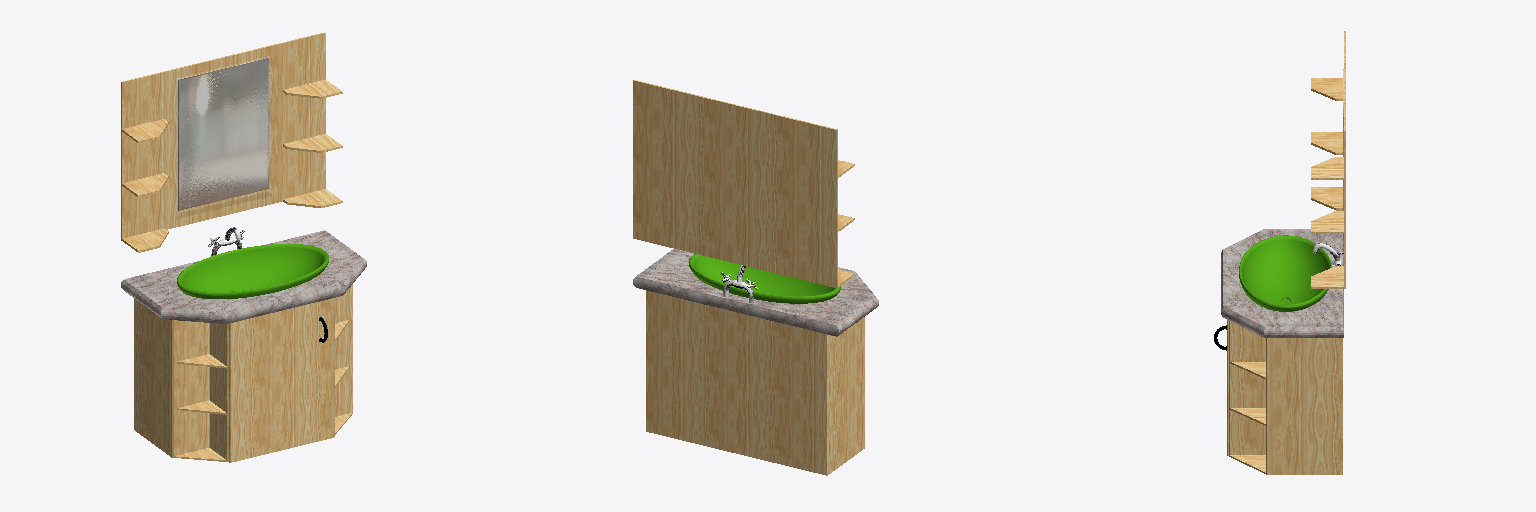
3 views of the same model, side by side, from view 1: azimuth 30°, elevation 25°; view 2: azimuth 150°, elevation 25°; view 3: azimuth 270°, elevation 25° (orthographic).
Parts seen in each view (by area): view 1: Box01, Box04, Rectangular_Mirror_white__Rectangular_Mirror_white_, Object01, Sphere01; view 2: Box04, Box01, Object01, Sphere01; view 3: Box01, Object01, Sphere01, Box04.
Part boxes in pixels (left/top/right/bottom): Box01: left=134, top=284, right=352, bottom=462; Box04: left=121, top=32, right=342, bottom=252; Rectangular_Mirror_white__Rectangular_Mirror_white_: left=178, top=57, right=268, bottom=210; Object01: left=121, top=230, right=366, bottom=323; Sphere01: left=177, top=244, right=328, bottom=298; Box04: left=633, top=80, right=854, bottom=287; Box01: left=646, top=290, right=864, bottom=475; Object01: left=633, top=249, right=878, bottom=336; Sphere01: left=689, top=254, right=840, bottom=303; Box01: left=1227, top=320, right=1342, bottom=474; Object01: left=1221, top=229, right=1343, bottom=337; Sphere01: left=1239, top=235, right=1331, bottom=311; Box04: left=1311, top=31, right=1345, bottom=288.
Bounding box in the file's own units: 17.62 × 28.51 × 9.75.
Materials: 6 (4 with a texture image).